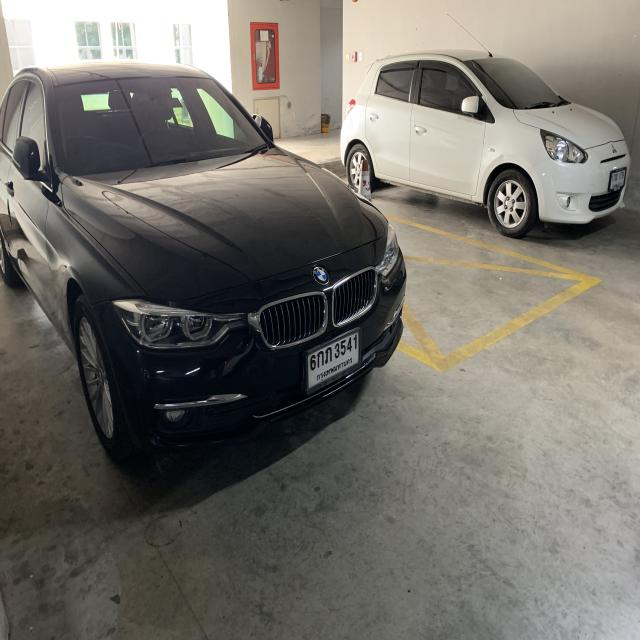license_plate: (302, 326, 363, 395), (606, 163, 631, 197)
